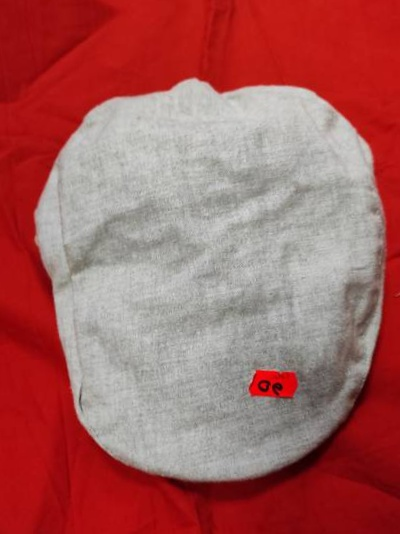Hat: (21, 34, 400, 499)
